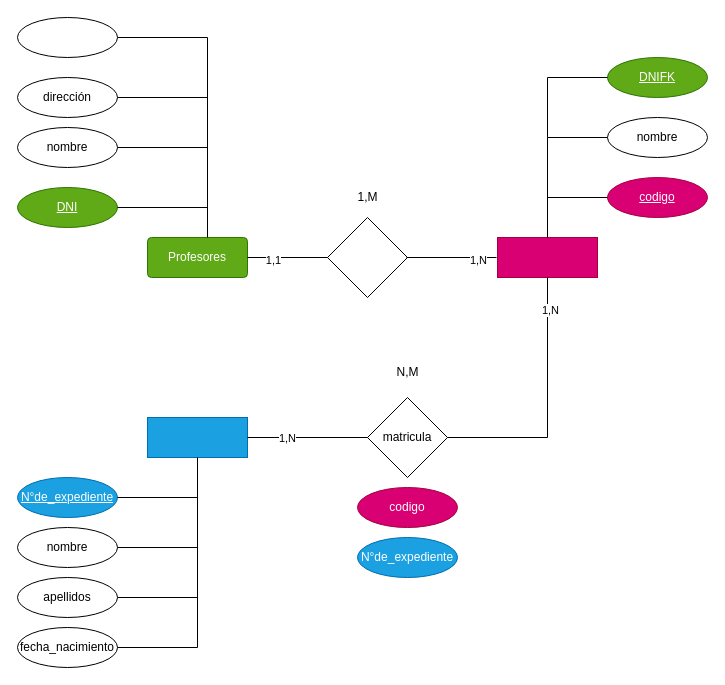
Some shapes in this 725 by 685 pixel diagram are drawn without their labels. Here are the shapes that lost their labels. From the top down, the centre of each, then its label:
At pixel 67 37: "teléfono".
At pixel 367 257: "imparte".
At pixel 547 257: "Modulo".
At pixel 197 437: "Alumno".
